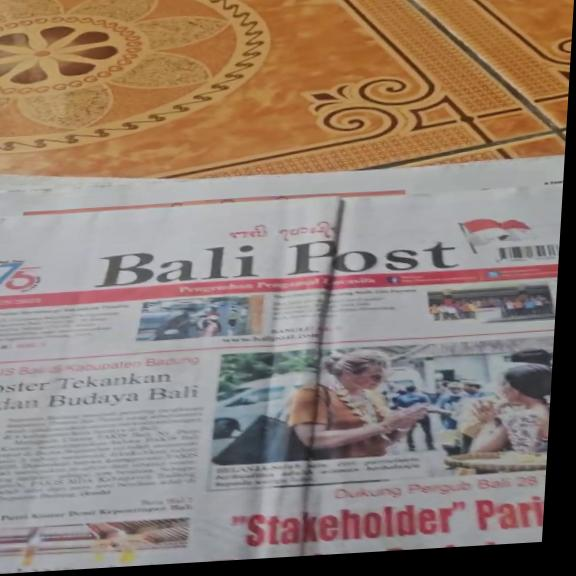Kertas: (0, 159, 552, 574)
